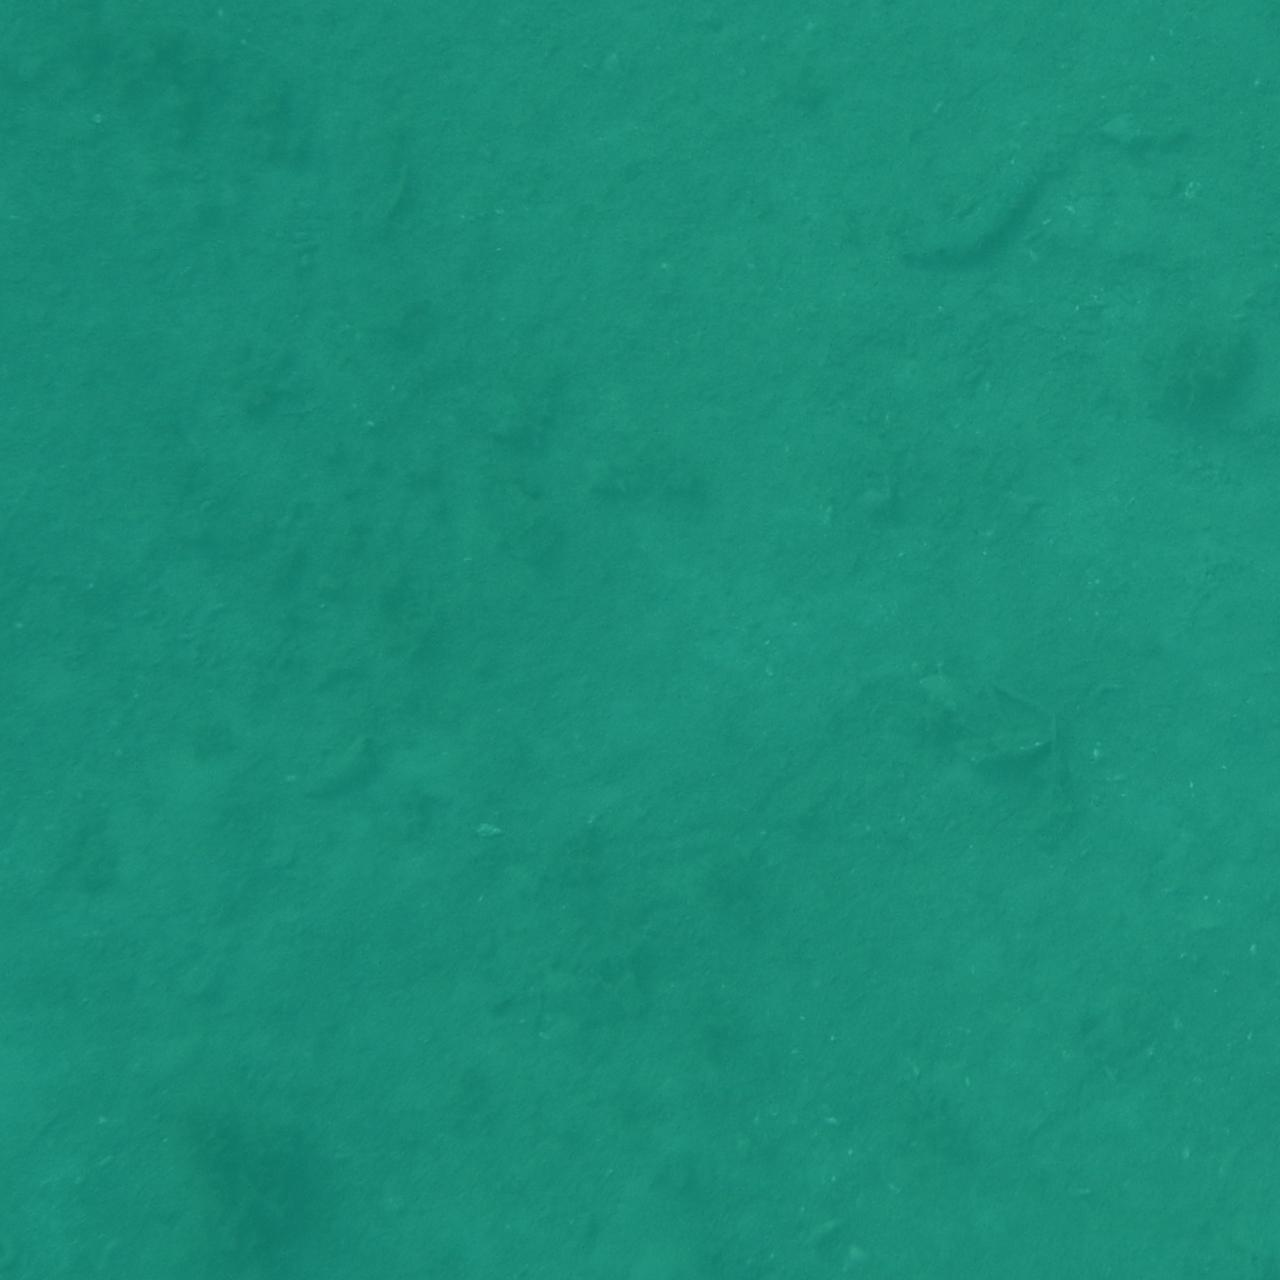Holothuria tubulosa: (901, 113, 1114, 279), (1207, 350, 1280, 601), (0, 1121, 116, 1264), (1141, 321, 1280, 435), (1194, 67, 1280, 248), (353, 0, 649, 52), (0, 495, 96, 607), (0, 0, 70, 143), (0, 1212, 120, 1280)
